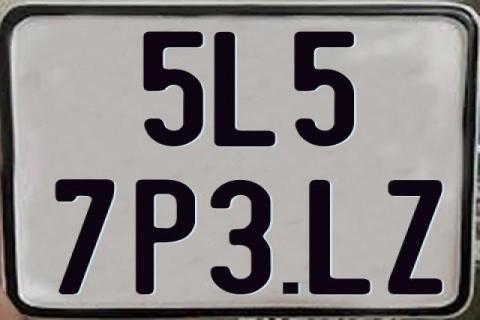0: (207, 180, 274, 296), (52, 178, 116, 298), (292, 29, 353, 149), (143, 29, 203, 144)
L: (212, 31, 276, 145), (309, 178, 370, 296)
P: (135, 177, 197, 297)
Z: (386, 179, 445, 299)
